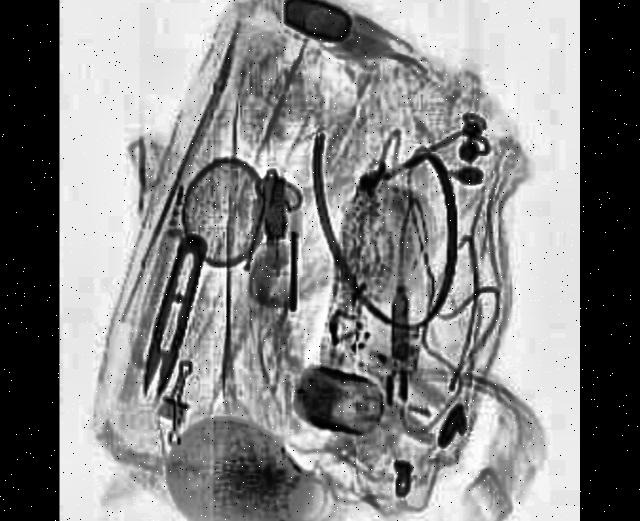Scissors: (138, 231, 215, 408)
